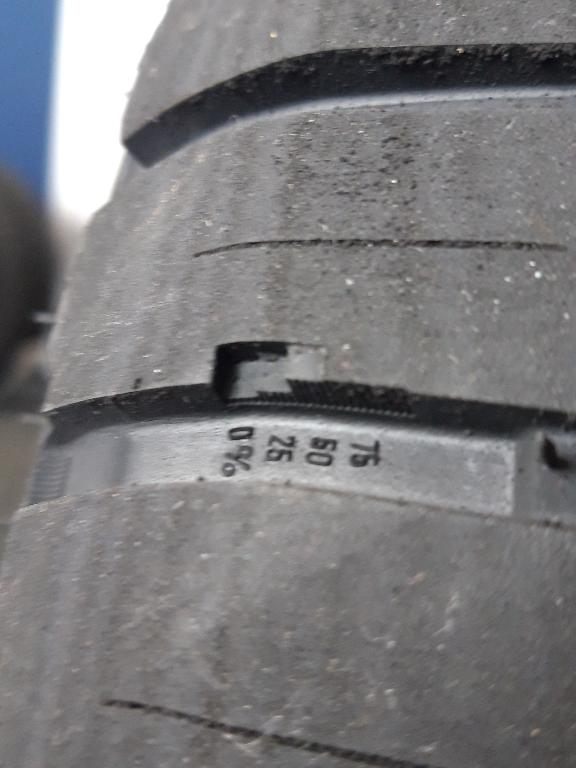temoin:50: (201, 333, 344, 420)
